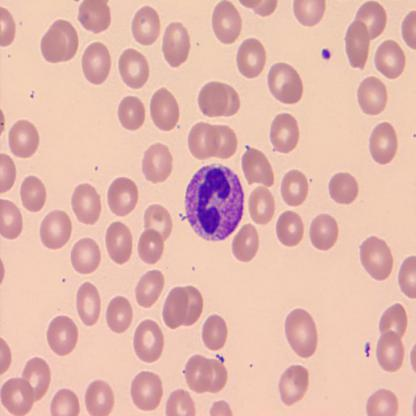Segmented neutrophil: (183, 161, 246, 243)
